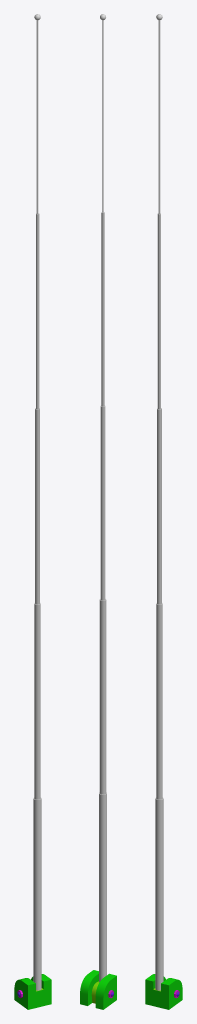
The model's file is texture.fbx.
The picture shows the model from 3 angles, left to right: view 1: azimuth 30°, elevation 25°; view 2: azimuth 150°, elevation 25°; view 3: azimuth 330°, elevation 25°; orthographic projection.
Visible parts, largest first — view 1: bras1, bras2, base, bras3, bras4, bras5; view 2: bras2, bras1, bras3, base, bras4, bras5; view 3: bras1, bras2, base, bras3, bras4, bras5.
Boxes of the visible parts, <box> form: bras1: <box>33,797,41,990</box>; bras2: <box>34,603,40,799</box>; base: <box>14,974,51,1009</box>; bras3: <box>35,408,39,604</box>; bras4: <box>36,213,39,409</box>; bras5: <box>36,20,38,213</box>; bras2: <box>99,599,106,794</box>; bras1: <box>99,792,106,982</box>; bras3: <box>100,405,105,600</box>; base: <box>80,970,116,1009</box>; bras4: <box>101,212,104,406</box>; bras5: <box>102,20,103,212</box>; bras1: <box>155,797,163,990</box>; bras2: <box>156,603,162,799</box>; base: <box>145,974,182,1009</box>; bras3: <box>157,408,161,604</box>; bras4: <box>157,213,160,409</box>; bras5: <box>158,20,160,213</box>.
Bounding box in the file's own units: 0.1281 × 4.02 × 0.1.
